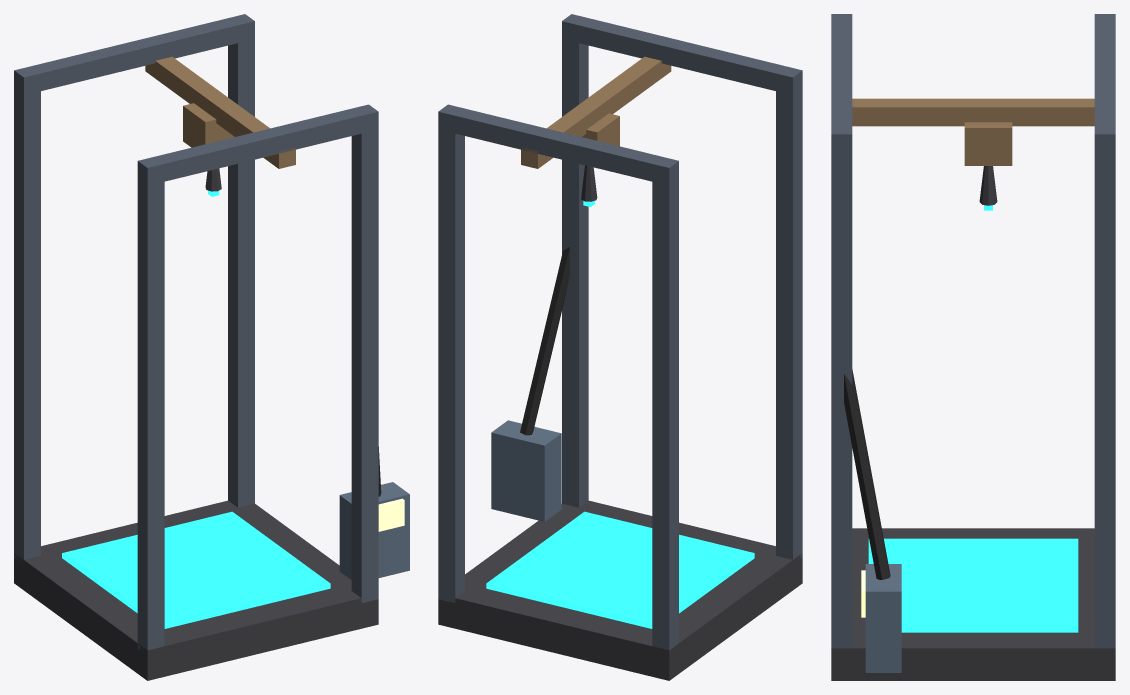
Rendered from manufactory.glb.
3 views of the same model, side by side, from view 1: azimuth 30°, elevation 25°; view 2: azimuth 150°, elevation 25°; view 3: azimuth 270°, elevation 25° (orthographic). The views are drawn at different scales.
Visible parts, largest first — view 1: PROP_Manufactory_Mesh; view 2: PROP_Manufactory_Mesh; view 3: PROP_Manufactory_Mesh.
Part boxes in pixels (x1,y1,x2,y2): PROP_Manufactory_Mesh: (14,14,409,680); PROP_Manufactory_Mesh: (438,14,802,680); PROP_Manufactory_Mesh: (831,14,1115,680).
Bounding box in the file's own units: 1.15 × 2.02 × 0.95.
